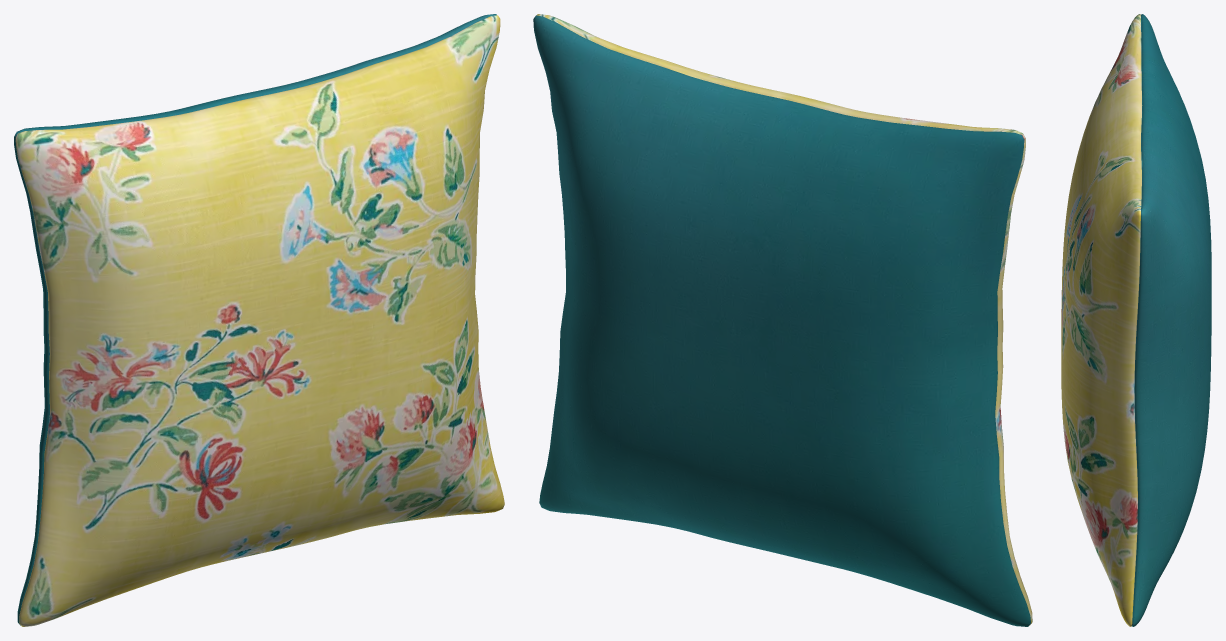
3 views of the same model, side by side, from view 1: azimuth 30°, elevation 25°; view 2: azimuth 150°, elevation 25°; view 3: azimuth 270°, elevation 25° (orthographic). The views are drawn at different scales.
Parts seen in each view (by area): view 1: RootNode; view 2: RootNode; view 3: RootNode.
Boxes of the visible parts, x1=… form: RootNode: x1=14, y1=14, x2=504, y2=626; RootNode: x1=533, y1=14, x2=1032, y2=626; RootNode: x1=1061, y1=14, x2=1211, y2=626.
Size of the model in its own units: 0.5248 by 0.5078 by 0.1659.
Materials: 1 (1 with a texture image).
